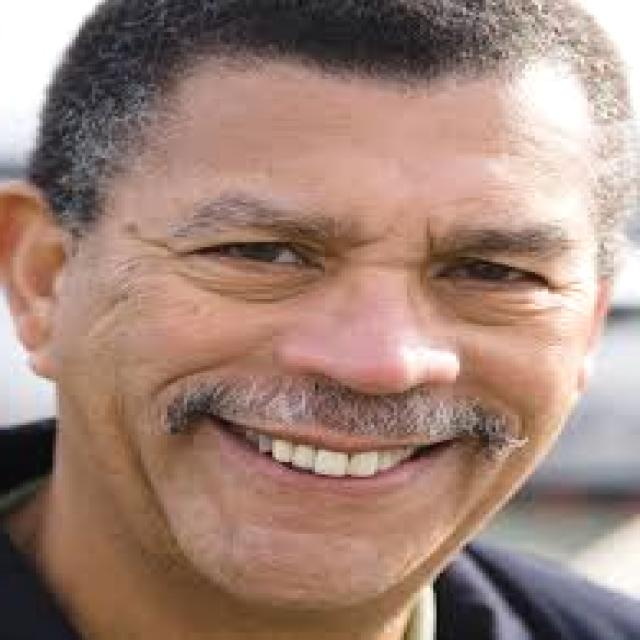normal_face: (40, 11, 614, 628)
